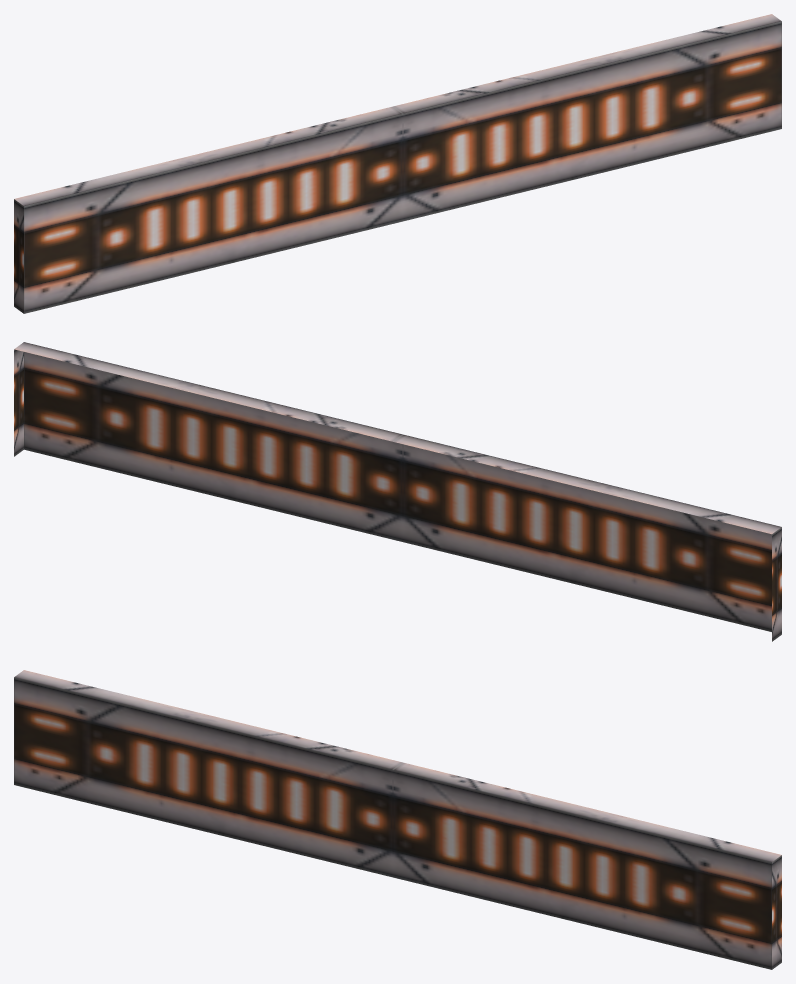
The model's file is rodape3.fbx.
3 renders of one model, top to bottom at view 1: azimuth 30°, elevation 25°; view 2: azimuth 150°, elevation 25°; view 3: azimuth 330°, elevation 25°, orthographic.
Visible parts, largest first — view 1: Cylinder; view 2: Cylinder; view 3: Cylinder.
Part boxes in pixels (x1=…): Cylinder: x1=14, y1=14, x2=781, y2=313; Cylinder: x1=14, y1=342, x2=781, y2=641; Cylinder: x1=14, y1=670, x2=781, y2=969.
Bounding box in the file's own units: 3.51 × 0.476 × 0.0802.
